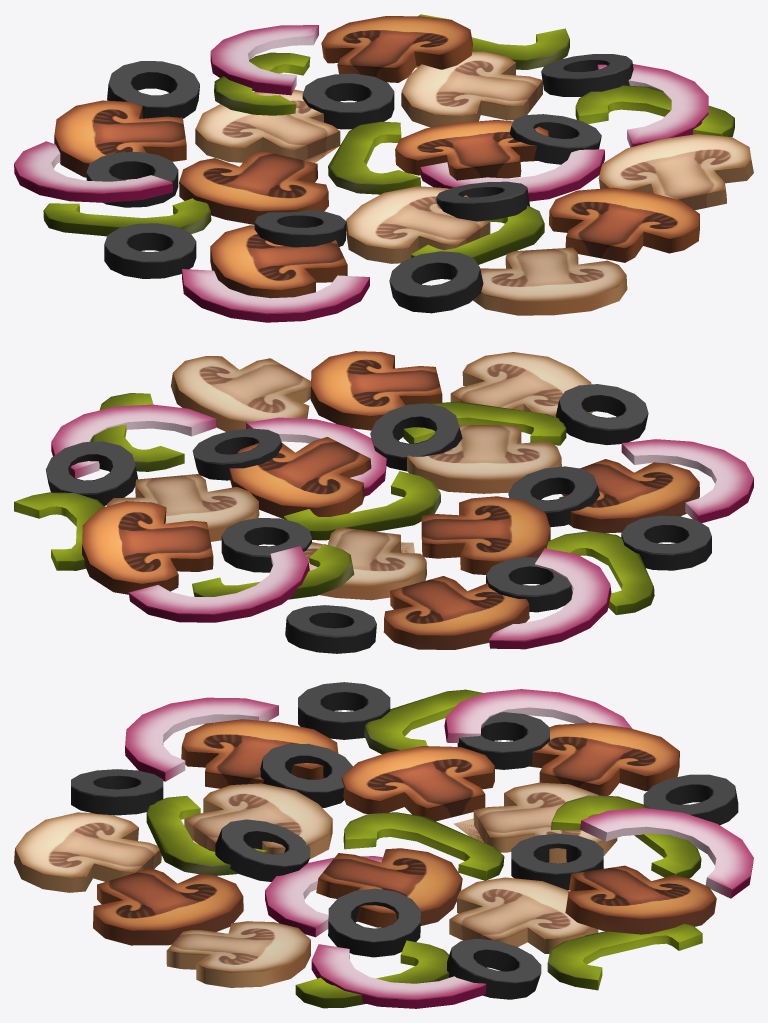
File: Toppings_Veggie.fbx
3 renders of one model, top to bottom at view 1: azimuth 30°, elevation 25°; view 2: azimuth 150°, elevation 25°; view 3: azimuth 270°, elevation 25°, orthographic. The views are drawn at different scales.
Parts seen in each view (by area): view 1: Toppings_Veggie; view 2: Toppings_Veggie; view 3: Toppings_Veggie.
Boxes of the visible parts, box(x1,y1,x2,y2) form: Toppings_Veggie: box(14, 14, 753, 322); Toppings_Veggie: box(14, 351, 753, 653); Toppings_Veggie: box(14, 682, 753, 1008).
Bounding box in the file's own units: 136 × 9.21 × 136.
